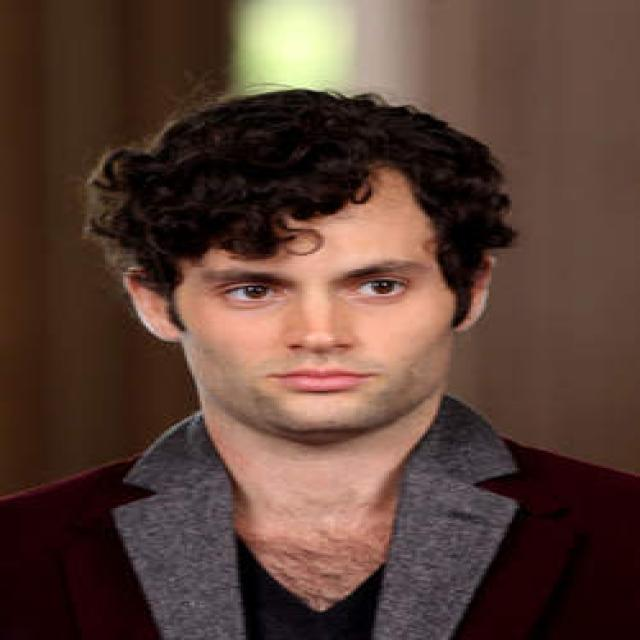human: (8, 85, 638, 640)
